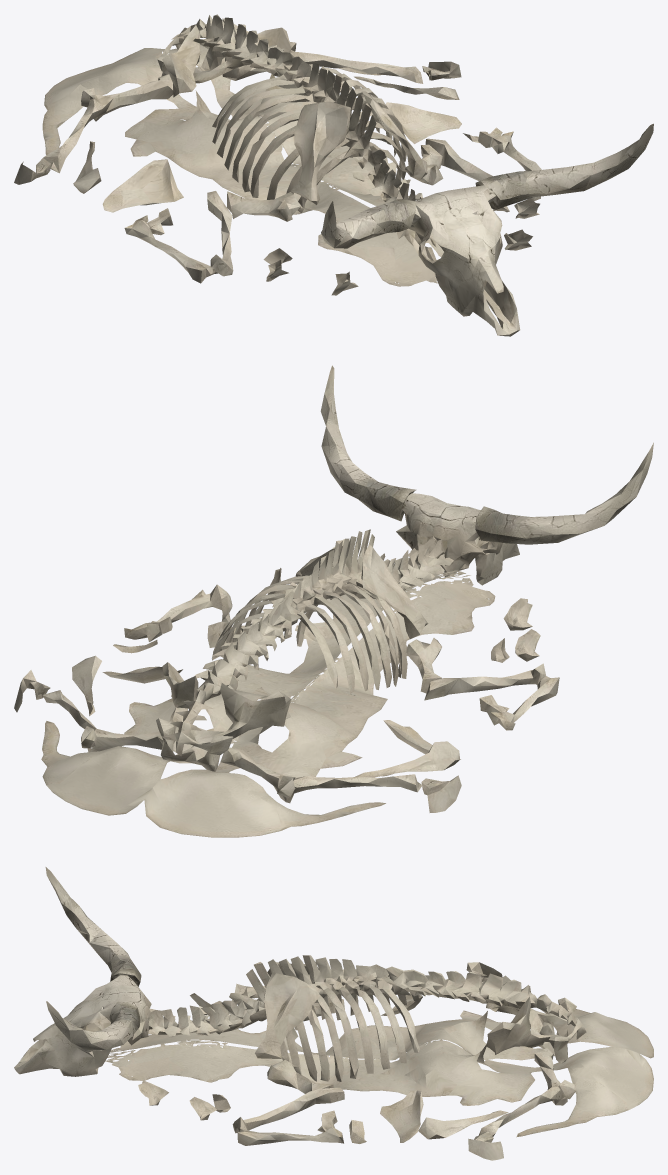
File: bones.glb
The picture shows the model from 3 angles, top to bottom: view 1: azimuth 30°, elevation 25°; view 2: azimuth 150°, elevation 25°; view 3: azimuth 270°, elevation 25°; orthographic projection. The views are drawn at different scales.
Parts seen in each view (by area): view 1: mesh_node; view 2: mesh_node; view 3: mesh_node.
Part boxes in pixels (x1=…): mesh_node: x1=14, y1=14, x2=653, y2=336; mesh_node: x1=14, y1=365, x2=653, y2=837; mesh_node: x1=14, y1=867, x2=653, y2=1160.
Size of the model in its own units: 1.27 by 0.4555 by 1.9.
1 material, 1 textured.
